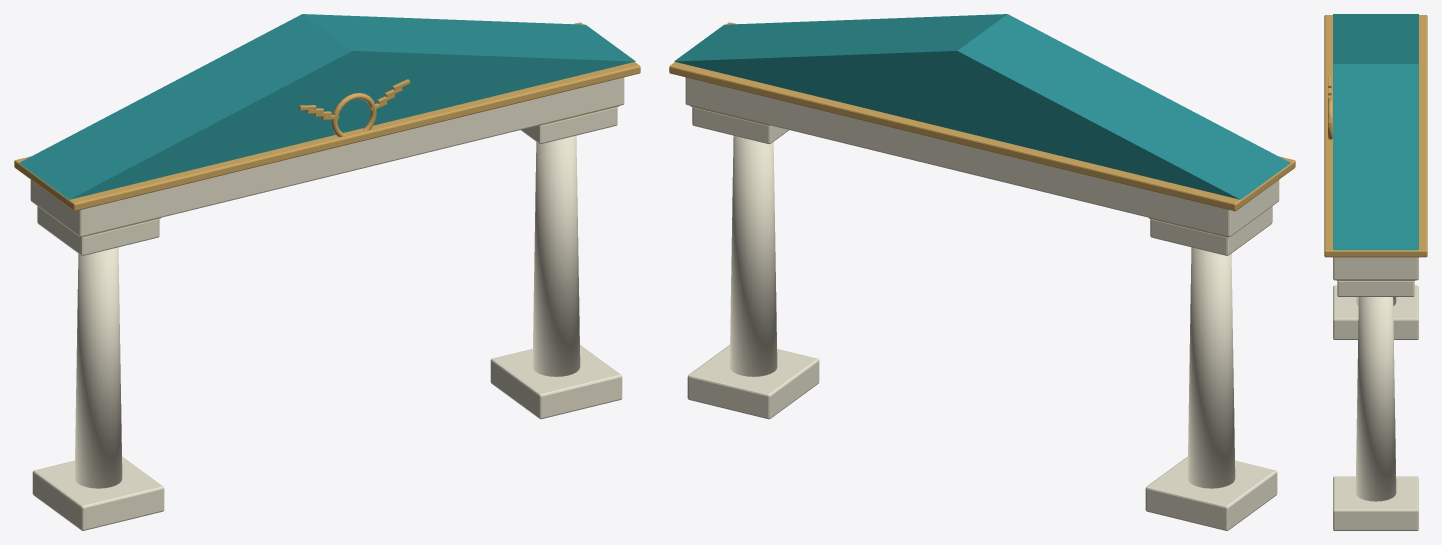
File: temple.glb
3 views of the same model, side by side, from view 1: azimuth 30°, elevation 25°; view 2: azimuth 150°, elevation 25°; view 3: azimuth 270°, elevation 25° (orthographic). The views are drawn at different scales.
Visible parts, largest first — view 1: temple_Carved limestone, temple_Glazed turquoise, temple_Antique bronze; view 2: temple_Carved limestone, temple_Glazed turquoise, temple_Antique bronze; view 3: temple_Glazed turquoise, temple_Carved limestone, temple_Antique bronze.
Part boxes in pixels (x1,y1,x2,y2): temple_Carved limestone: [30, 77, 624, 530]; temple_Glazed turquoise: [19, 14, 635, 199]; temple_Antique bronze: [14, 22, 640, 237]; temple_Carved limestone: [685, 77, 1279, 530]; temple_Glazed turquoise: [674, 14, 1290, 199]; temple_Antique bronze: [669, 22, 1295, 237]; temple_Glazed turquoise: [1333, 14, 1418, 250]; temple_Carved limestone: [1333, 257, 1418, 530]; temple_Antique bronze: [1324, 15, 1427, 280].
Bounding box in the file's own units: 26 × 18.2 × 4.8.
